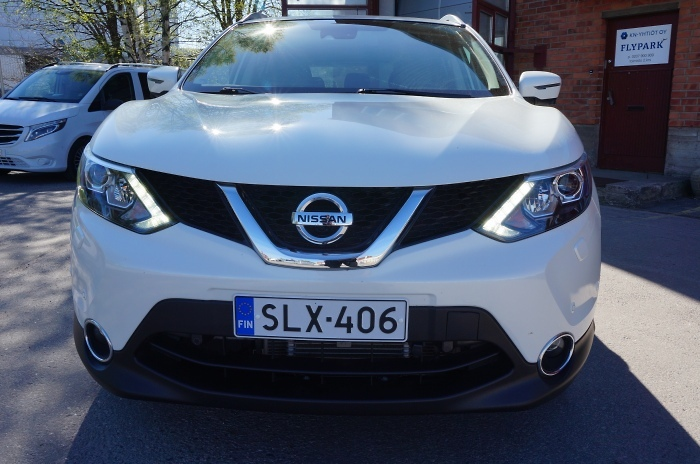license: (230, 294, 403, 348)
